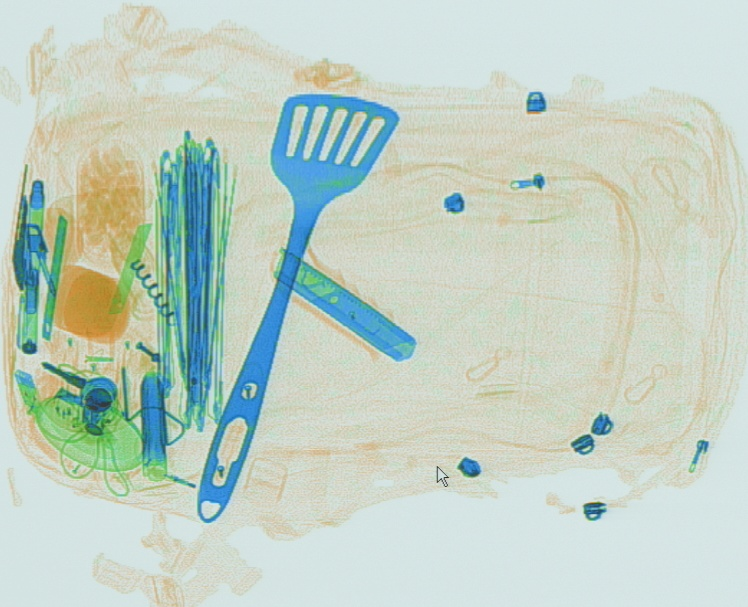knife: (268, 234, 417, 362), (106, 221, 152, 313), (40, 212, 70, 338)
